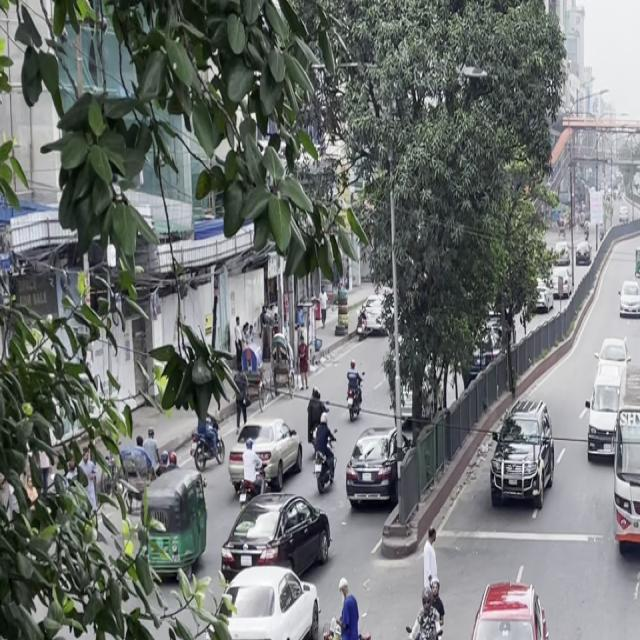bicycle: (310, 582, 395, 640)
bus: (604, 403, 640, 567)
car: (217, 494, 334, 587), (203, 556, 325, 640), (485, 398, 558, 520), (448, 566, 566, 640), (341, 428, 403, 519), (581, 358, 628, 470), (617, 279, 640, 325)
motorbike: (401, 589, 448, 640)
